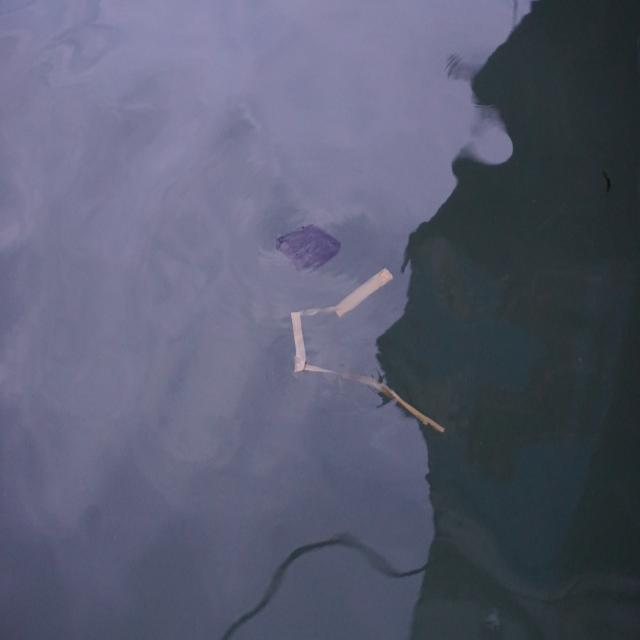Kantong Plastik: (275, 219, 344, 281)
